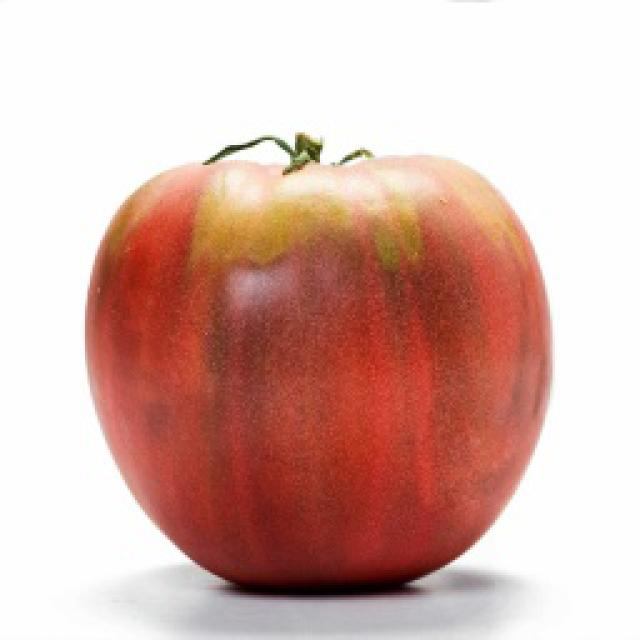tomato: (85, 135, 557, 593)
